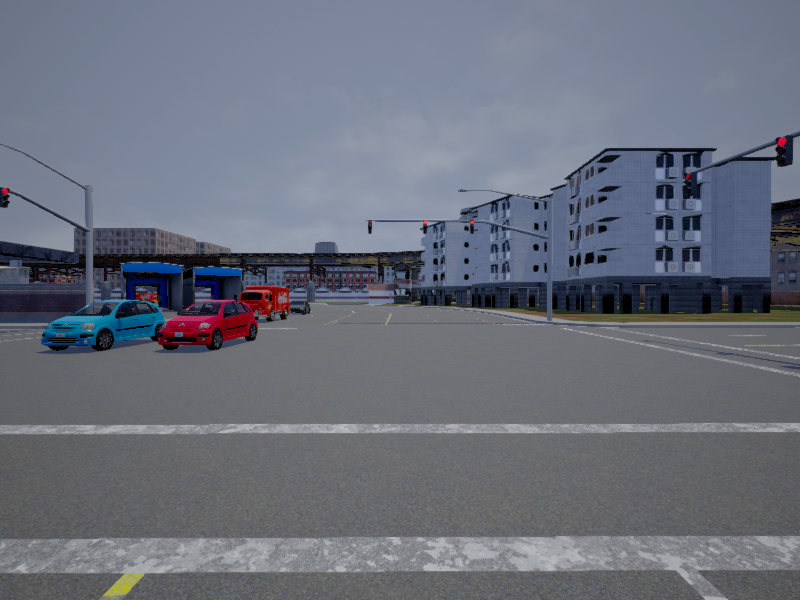Benign: (44, 302, 165, 347), (157, 300, 260, 349), (238, 289, 291, 323), (289, 299, 311, 317)
